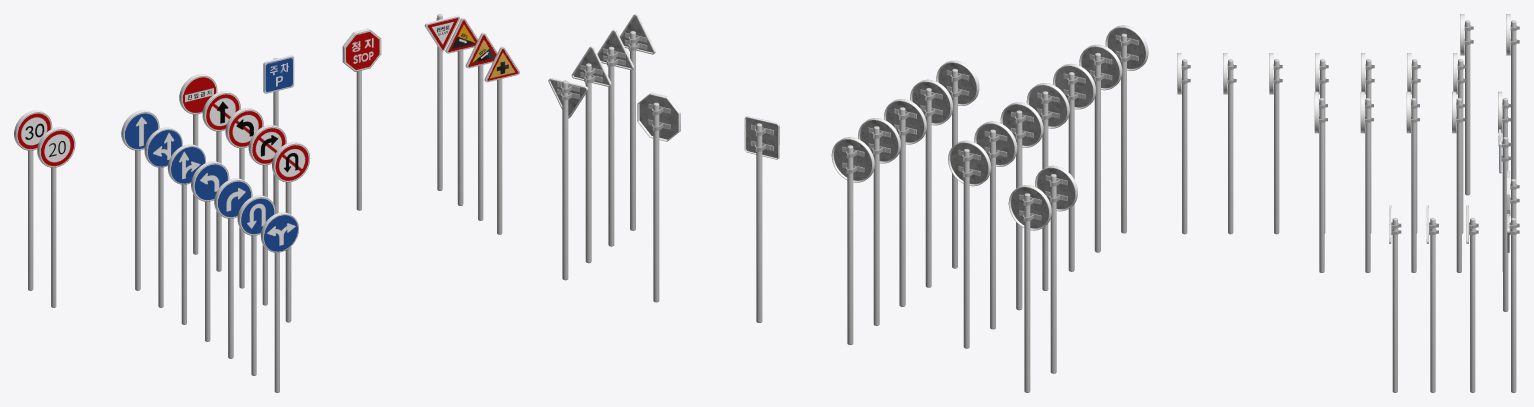
File: traffic sign..fbx
The picture shows the model from 3 angles, left to right: view 1: azimuth 30°, elevation 25°; view 2: azimuth 150°, elevation 25°; view 3: azimuth 270°, elevation 25°; orthographic projection. The views are drawn at different scales.
Parts seen in each view (by area): view 1: Base_LP_octogone_basenew, Base_LP_50_circle_2, Base_LP_50_circle_20, Base_LP_50_circle_7, Base_LP_50_circle_13, Base_LP_50_circle_22, Base_LP_50_circle_26, Base_LP_50_circle_8, Base_LP_50_circle_9, Base_LP_50_circle_11, Base_LP_50_circle_10, Base_LP_50_circle_12 (+27 smaller); view 2: Pole_LP_26, Pole_LP, Pole_LP_29, Pole_LP_35, Pole_LP_39, Pole_LP_13, Pole_LP_25, Pole_LP_2, Pole_LP_22, Pole_LP_37.001, Pole_LP_37.002, Pole_LP_21 (+28 smaller); view 3: Pole_LP_20, Pole_LP_21, Pole_LP_22, Pole_LP_7, Pole_LP_8, Pole_LP_9, Pole_LP_25, Pole_LP_37.001, Pole_LP_37.002, Pole_LP_37.003, Pole_LP_39, Pole_LP_2 (+7 smaller).
Boxes of the visible parts, x1,y1,x2,y2 form: Base_LP_octogone_basenew: (342, 28, 381, 71); Base_LP_50_circle_2: (37, 127, 75, 167); Base_LP_50_circle_20: (272, 142, 310, 182); Base_LP_50_circle_7: (260, 212, 298, 252); Base_LP_50_circle_13: (121, 110, 159, 150); Base_LP_50_circle_22: (225, 108, 263, 148); Base_LP_50_circle_26: (179, 74, 217, 114); Base_LP_50_circle_8: (237, 195, 275, 235); Base_LP_50_circle_9: (214, 178, 252, 218); Base_LP_50_circle_11: (167, 144, 205, 184); Base_LP_50_circle_10: (191, 161, 229, 201); Base_LP_50_circle_12: (144, 127, 182, 167); Pole_LP_26: (847, 145, 853, 345); Pole_LP: (1024, 193, 1030, 392); Pole_LP_29: (756, 123, 762, 322); Pole_LP_35: (653, 102, 659, 302); Pole_LP_39: (562, 80, 568, 280); Pole_LP_13: (963, 149, 969, 348); Pole_LP_25: (873, 126, 879, 325); Pole_LP_2: (1050, 174, 1056, 373); Pole_LP_22: (899, 107, 905, 306); Pole_LP_37.001: (585, 63, 591, 263); Pole_LP_37.002: (608, 46, 614, 246); Pole_LP_21: (925, 88, 931, 287); Pole_LP_20: (1319, 98, 1324, 272); Pole_LP_21: (1365, 98, 1370, 272); Pole_LP_22: (1411, 98, 1416, 272); Pole_LP_7: (1182, 59, 1187, 234); Pole_LP_8: (1228, 59, 1233, 234); Pole_LP_9: (1274, 59, 1279, 234); Pole_LP_25: (1456, 98, 1461, 272); Pole_LP_37.001: (1470, 218, 1475, 392); Pole_LP_37.002: (1430, 218, 1435, 392); Pole_LP_37.003: (1392, 218, 1397, 392); Pole_LP_39: (1511, 218, 1516, 392); Pole_LP_2: (1465, 20, 1470, 195).
Size of the model in its own units: 663 by 269 by 446.
